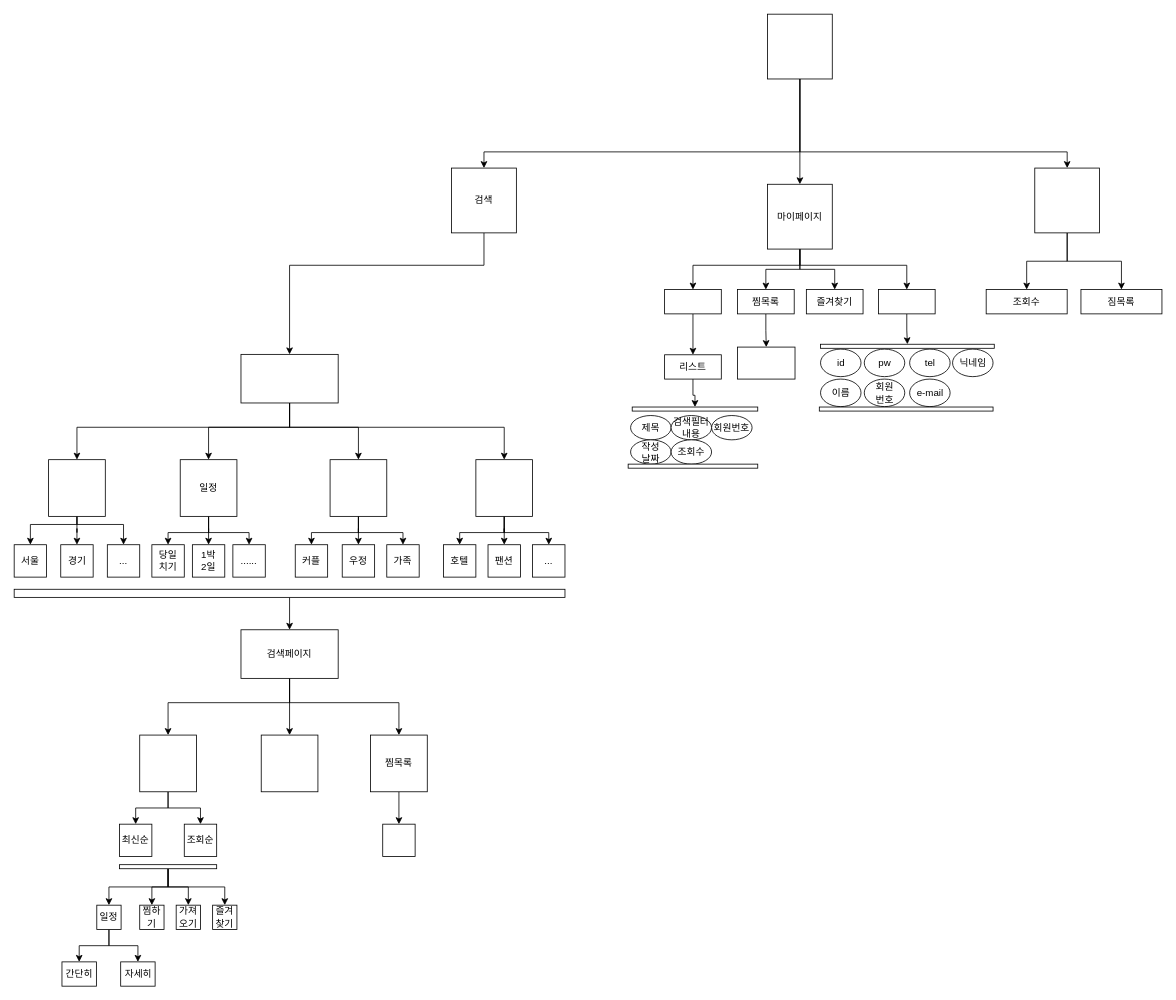
The diagram is 1176 pixels wide and 1000 high, and some of its shapes have lost their labels. Each missing label, with the box of its shape:
검색필터: (240, 354, 338, 403)
내가 저장한 목록: (382, 823, 415, 857)
내정보: (878, 289, 935, 314)
다른사람의 여행 플랜: (139, 734, 196, 792)
메인페이지: (767, 13, 832, 79)
사용자 지정폴더: (737, 346, 795, 379)
숙소: (475, 459, 533, 516)
여행리스트: (664, 289, 721, 314)
인기장소: (260, 734, 318, 792)
지역: (48, 459, 105, 516)
추천: (1034, 167, 1100, 233)
테마: (329, 459, 387, 516)
